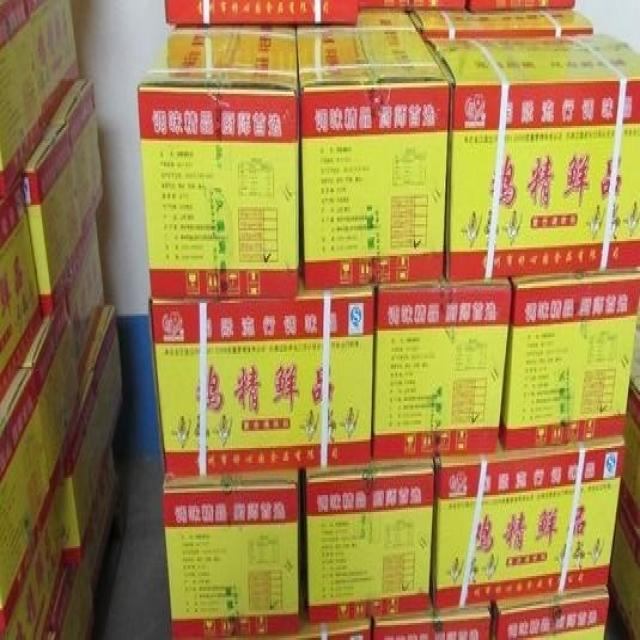Carton: (134, 21, 621, 621), (432, 30, 639, 284), (504, 275, 638, 446), (161, 478, 298, 636)
